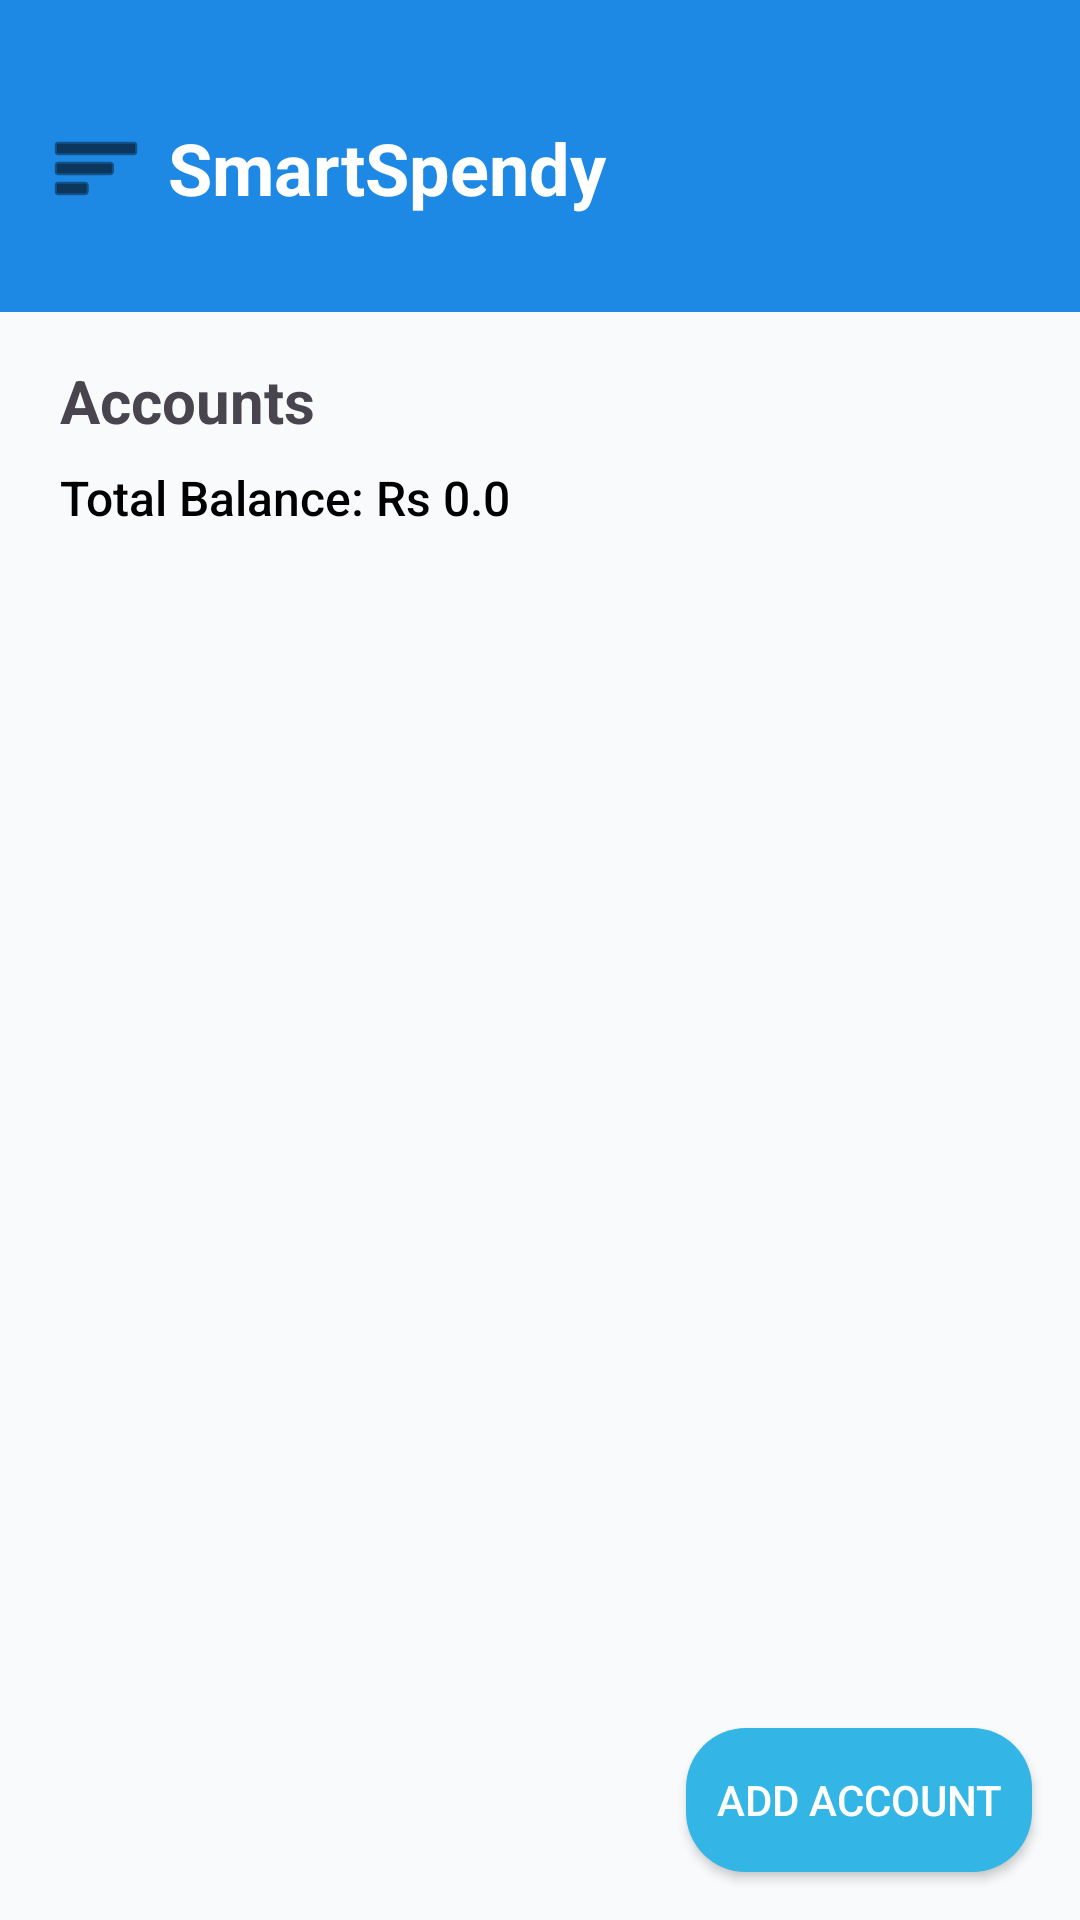

Icons on this 1080 × 1920 Android screen, each with its box as (x1, y1, x2, y2):
Menu: (55, 142, 137, 195)
